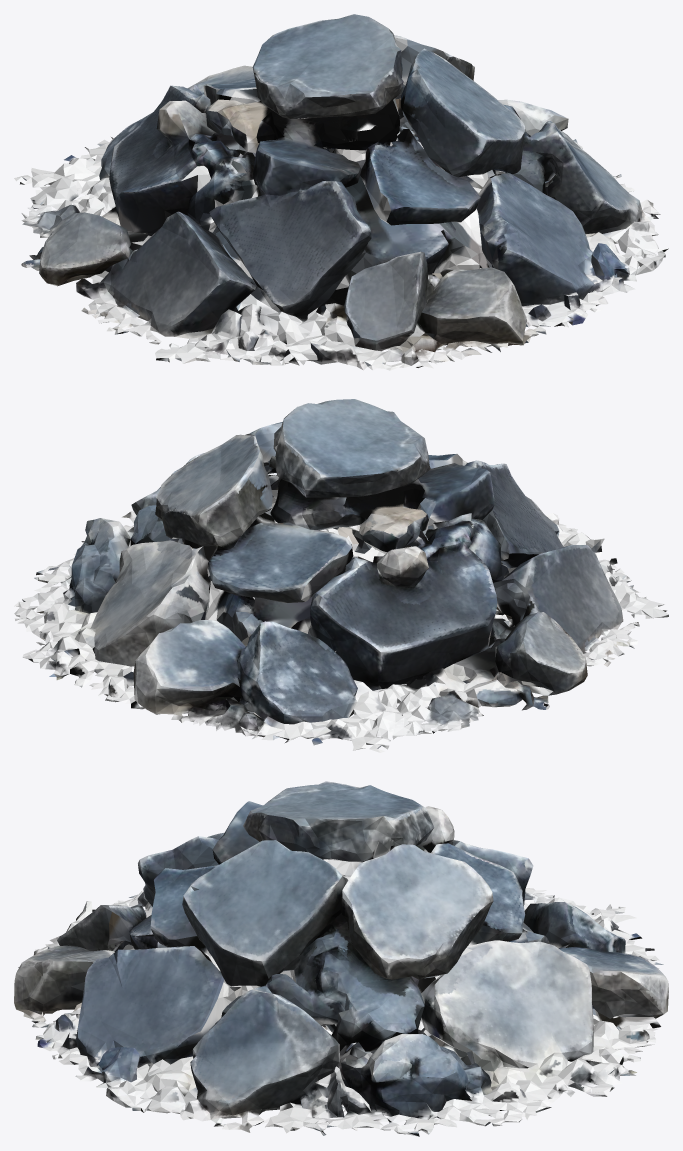
The model's file is traveler_env_coast_quarry_cut_rock_00001_.glb.
The picture shows the model from 3 angles, top to bottom: view 1: azimuth 30°, elevation 25°; view 2: azimuth 150°, elevation 25°; view 3: azimuth 270°, elevation 25°; orthographic projection. The views are drawn at different scales.
Parts seen in each view (by area): view 1: temp_mesh.ply; view 2: temp_mesh.ply; view 3: temp_mesh.ply.
Boxes of the visible parts, <box> form: temp_mesh.ply: <box>14,14,668,370</box>; temp_mesh.ply: <box>14,399,668,752</box>; temp_mesh.ply: <box>14,781,668,1136</box>.
Size of the model in its own units: 1.95 by 0.7033 by 1.97.
1 material, 1 textured.
